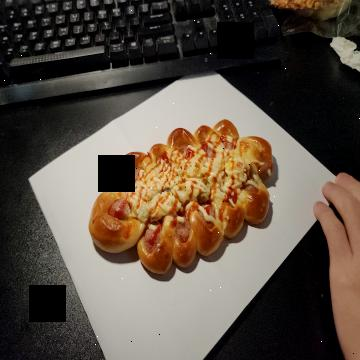pizza_bread: (89, 119, 272, 273)
